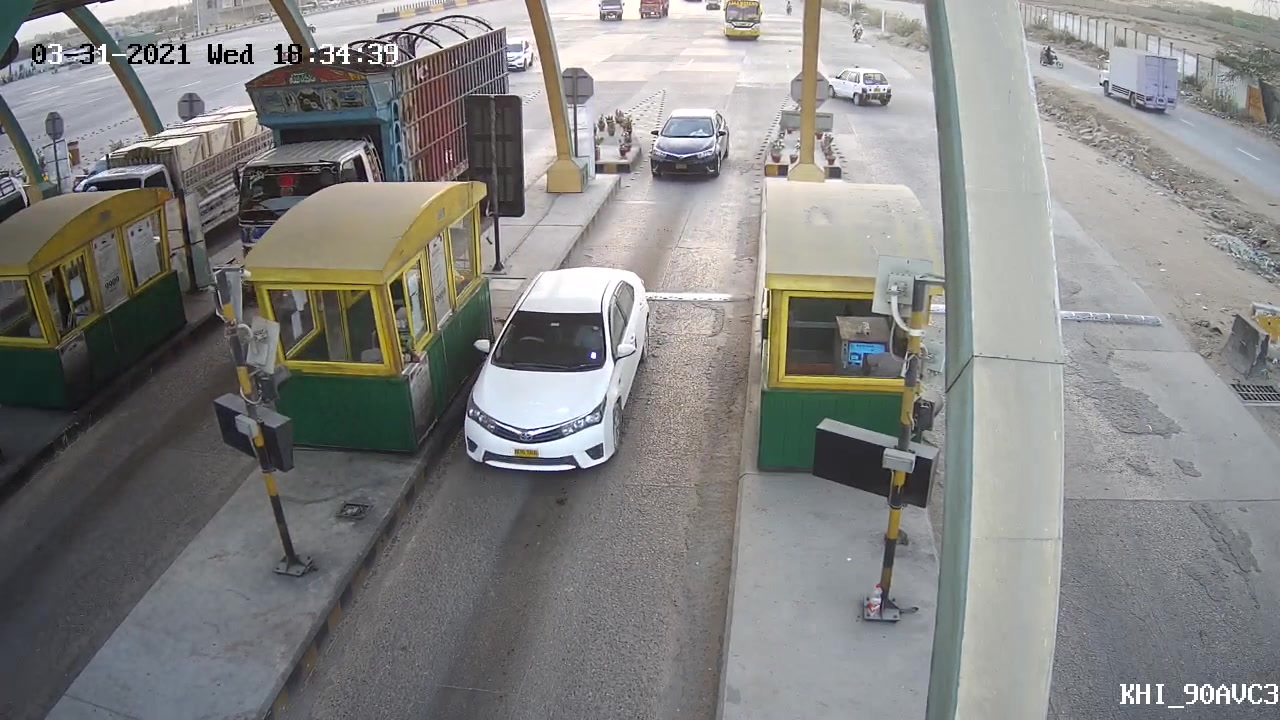F1: (459, 306, 635, 483), (645, 101, 740, 188)
